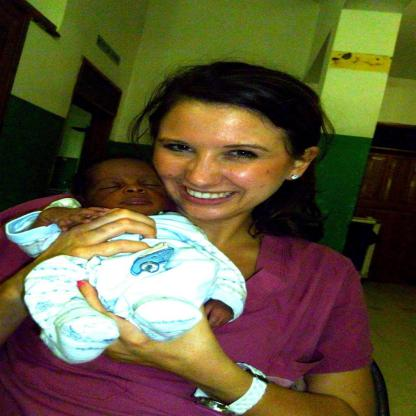face: (154, 101, 290, 221), (91, 163, 163, 212)
